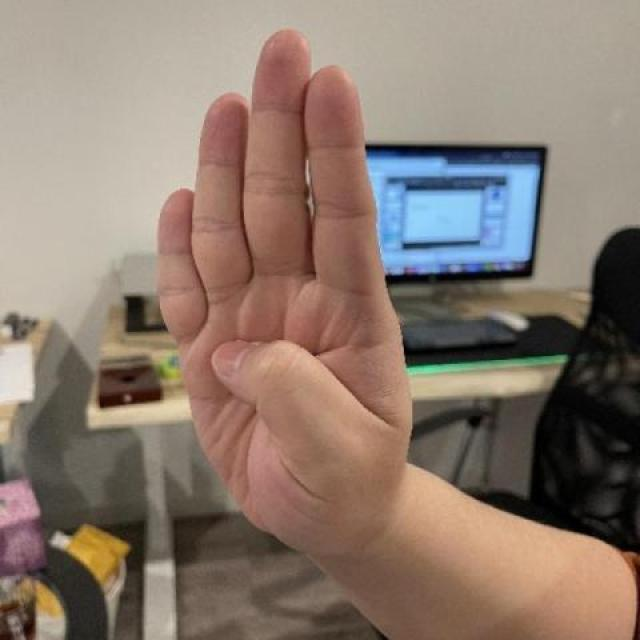Open Hand: (122, 26, 425, 558)
